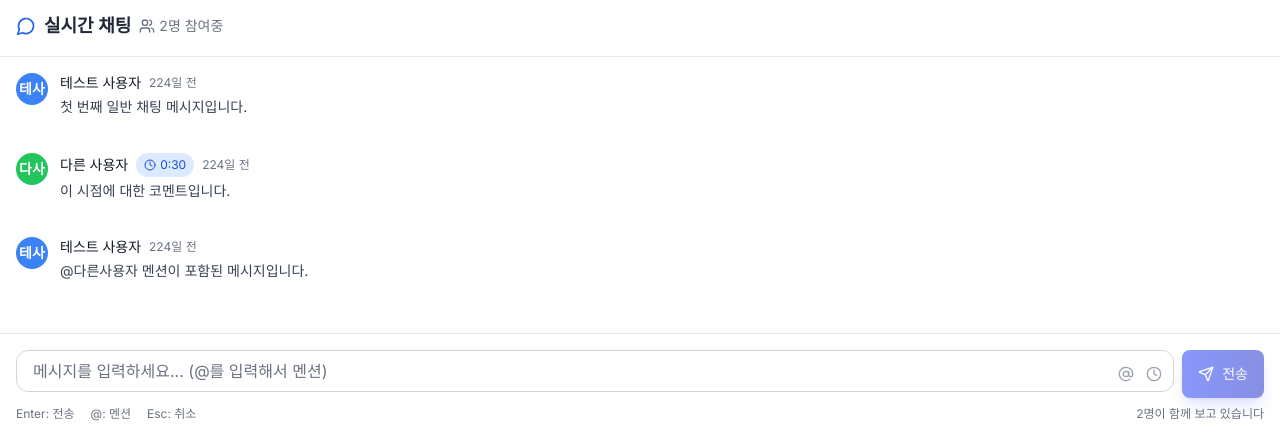
Scenario: RealtimeComments › 전송 버튼이 메시지가 없을 때 비활성화된다
Check: the button "전송" is disabled, box [1182,350,1264,398]
Note: 메시지 입력 후 활성화
In the field with placeholder "메시지를 입력하세요... (@를 입력해서 멘션)": (595,371) [16,350,1174,392], type "메시지"
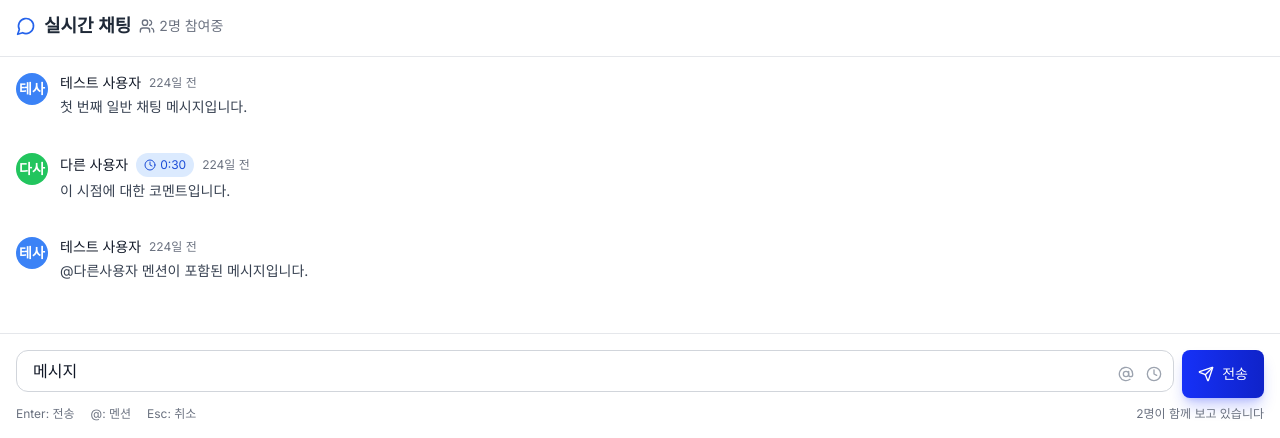
Check: the button "전송" is enabled, box [1182,350,1264,398]
